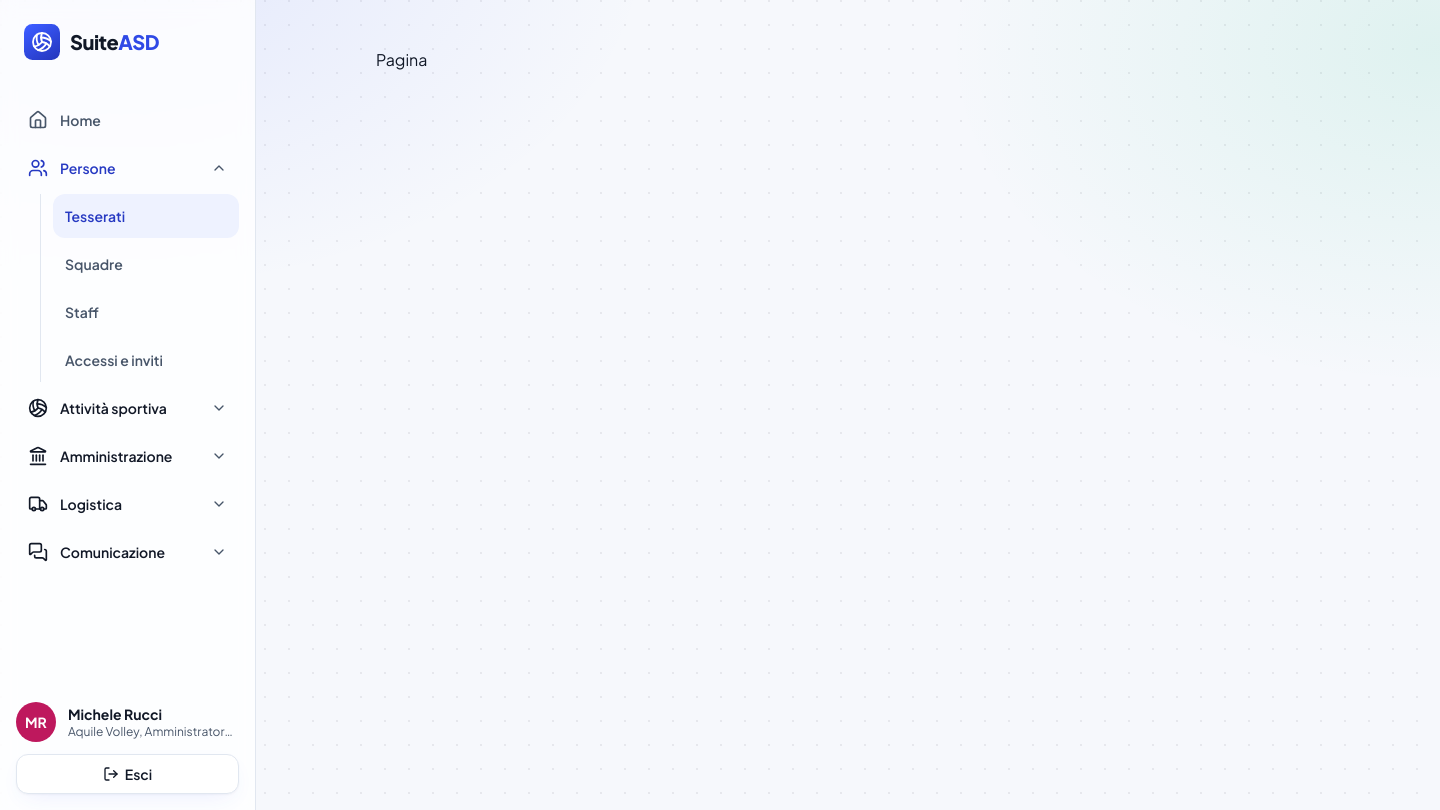
AppShell › sidebar groups › opens a group with a click and closes it with another, leaving the open one alone
Click the button "Amministrazione" at (128, 456), box [16,434,239,478]
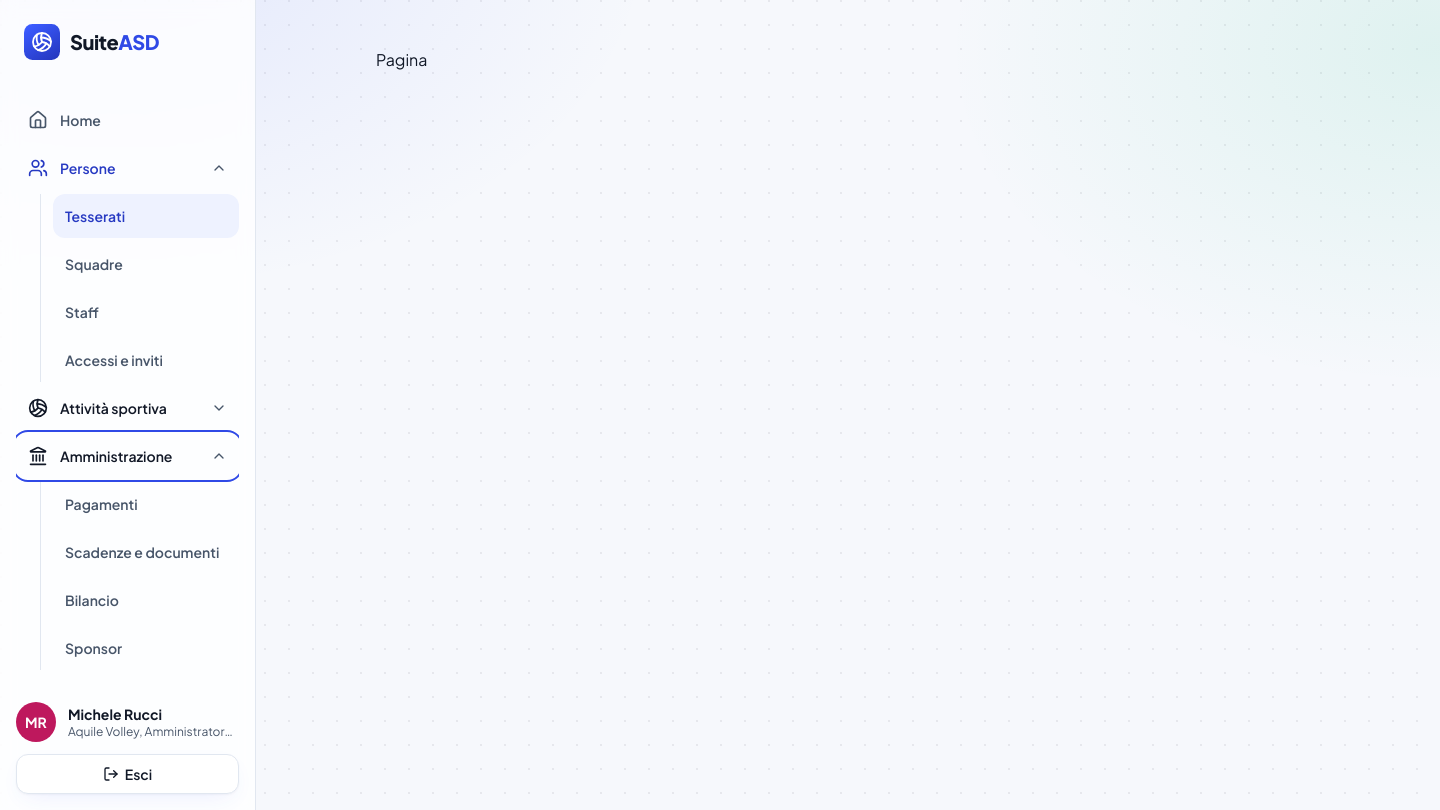
Expected: the link "Tesserati" is shown, [53,194,239,238]
Now the button "Amministrazione" is expanded
Click the button "Amministrazione" at (128, 456), box [16,434,239,478]
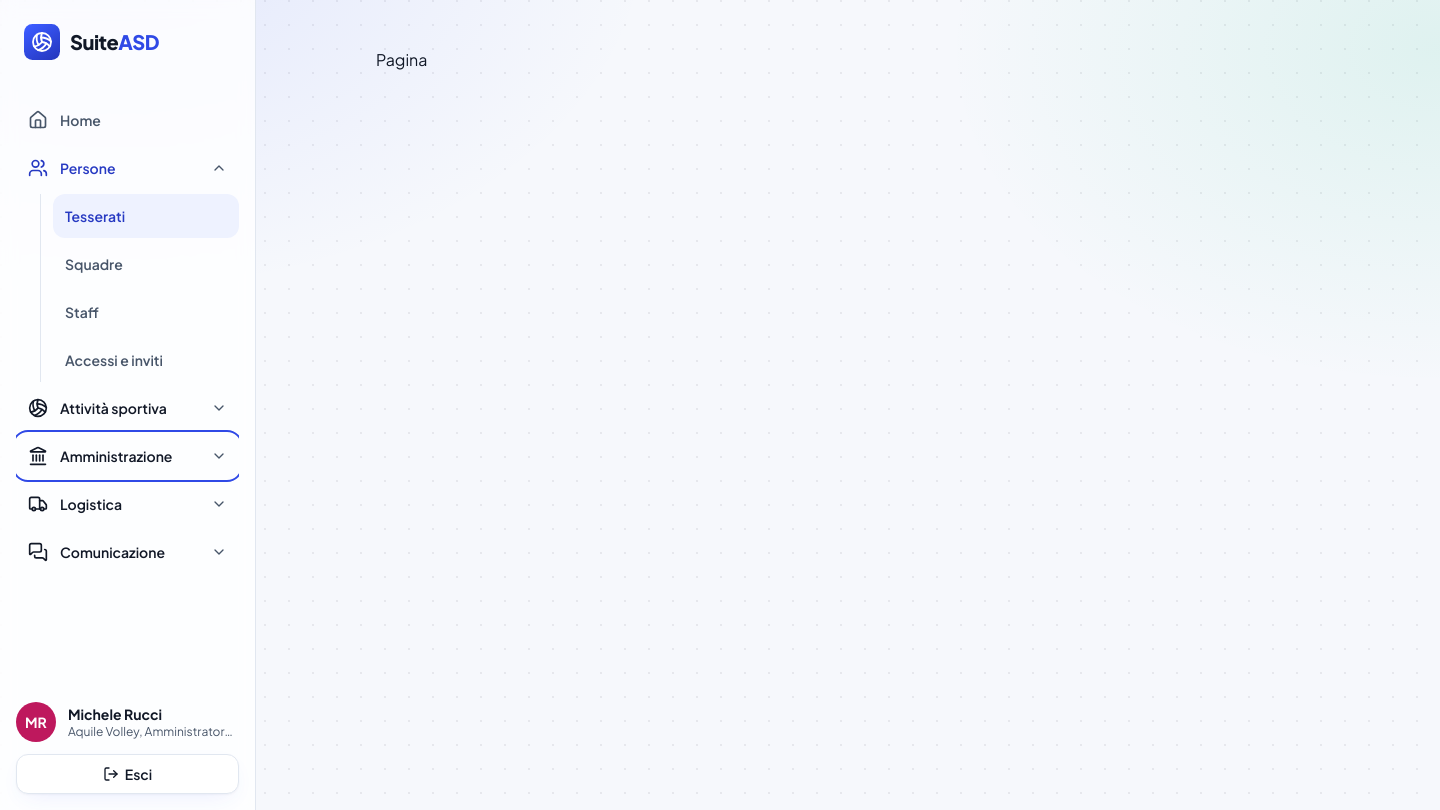
Now the button "Amministrazione" is collapsed, box [16,434,239,478]
Now the link "Pagamenti" is gone
